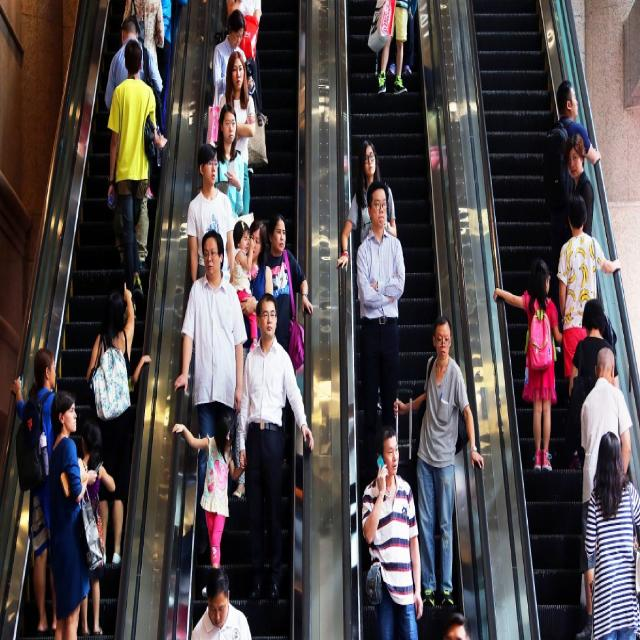body: (389, 312, 487, 608), (236, 289, 315, 603), (172, 226, 246, 528), (103, 37, 170, 323), (491, 254, 568, 474), (354, 177, 407, 475), (85, 279, 138, 567), (168, 401, 245, 598), (9, 345, 59, 636), (47, 388, 104, 639), (358, 422, 424, 638), (556, 192, 623, 380), (582, 428, 640, 638), (231, 216, 274, 499), (542, 78, 603, 274), (580, 343, 634, 539), (568, 296, 621, 475), (112, 41, 152, 267), (77, 418, 116, 637), (336, 138, 398, 273), (263, 214, 314, 373), (104, 12, 164, 137), (186, 143, 237, 288), (216, 49, 257, 218), (212, 10, 248, 148), (189, 567, 253, 640), (137, 20, 173, 138), (376, 0, 418, 96), (212, 102, 246, 220), (562, 129, 596, 240), (232, 218, 259, 352), (119, 0, 179, 21), (128, 353, 152, 395), (443, 611, 471, 640), (248, 8, 260, 56), (225, 0, 259, 9)
